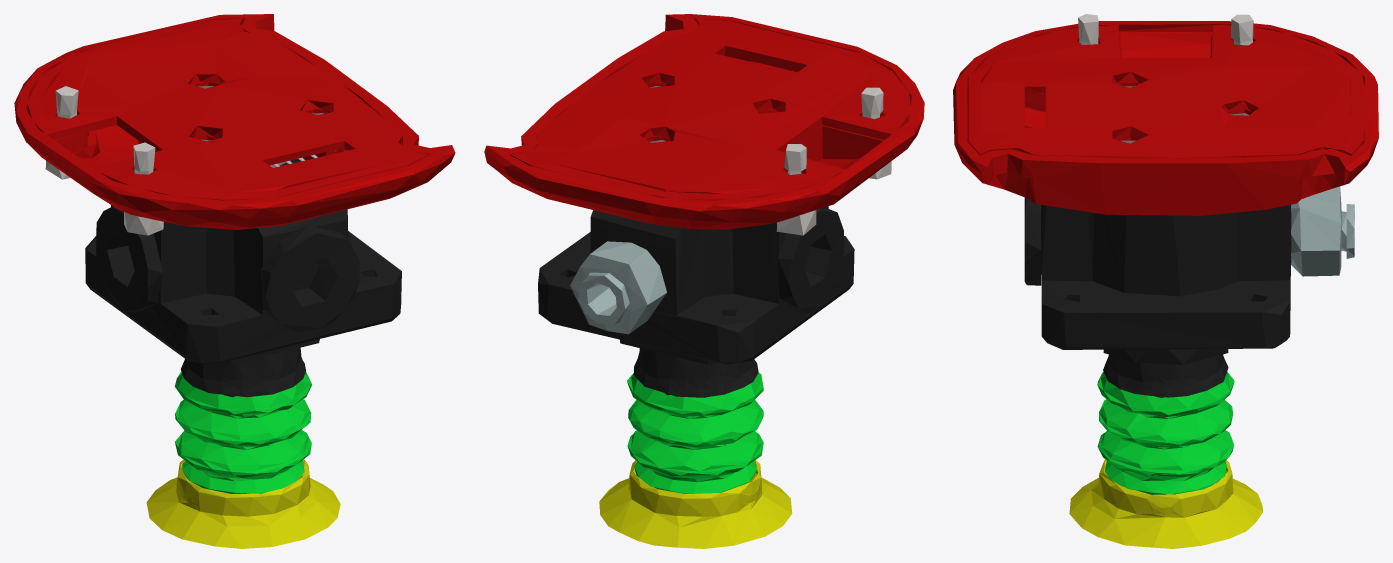
Rendered from pneumatic_gripper_w_cup.DAE.dae.
The picture shows the model from 3 angles, left to right: view 1: azimuth 30°, elevation 25°; view 2: azimuth 150°, elevation 25°; view 3: azimuth 270°, elevation 25°; orthographic projection.
Visible parts, largest first — view 1: ShapeIndexedFaceSet; view 2: ShapeIndexedFaceSet; view 3: ShapeIndexedFaceSet.
Part boxes in pixels (x1=…): ShapeIndexedFaceSet: x1=14, y1=14, x2=455, y2=548; ShapeIndexedFaceSet: x1=484, y1=14, x2=924, y2=548; ShapeIndexedFaceSet: x1=953, y1=14, x2=1378, y2=548.
Size of the model in its own units: 0.0618 by 0.0749 by 0.082.
